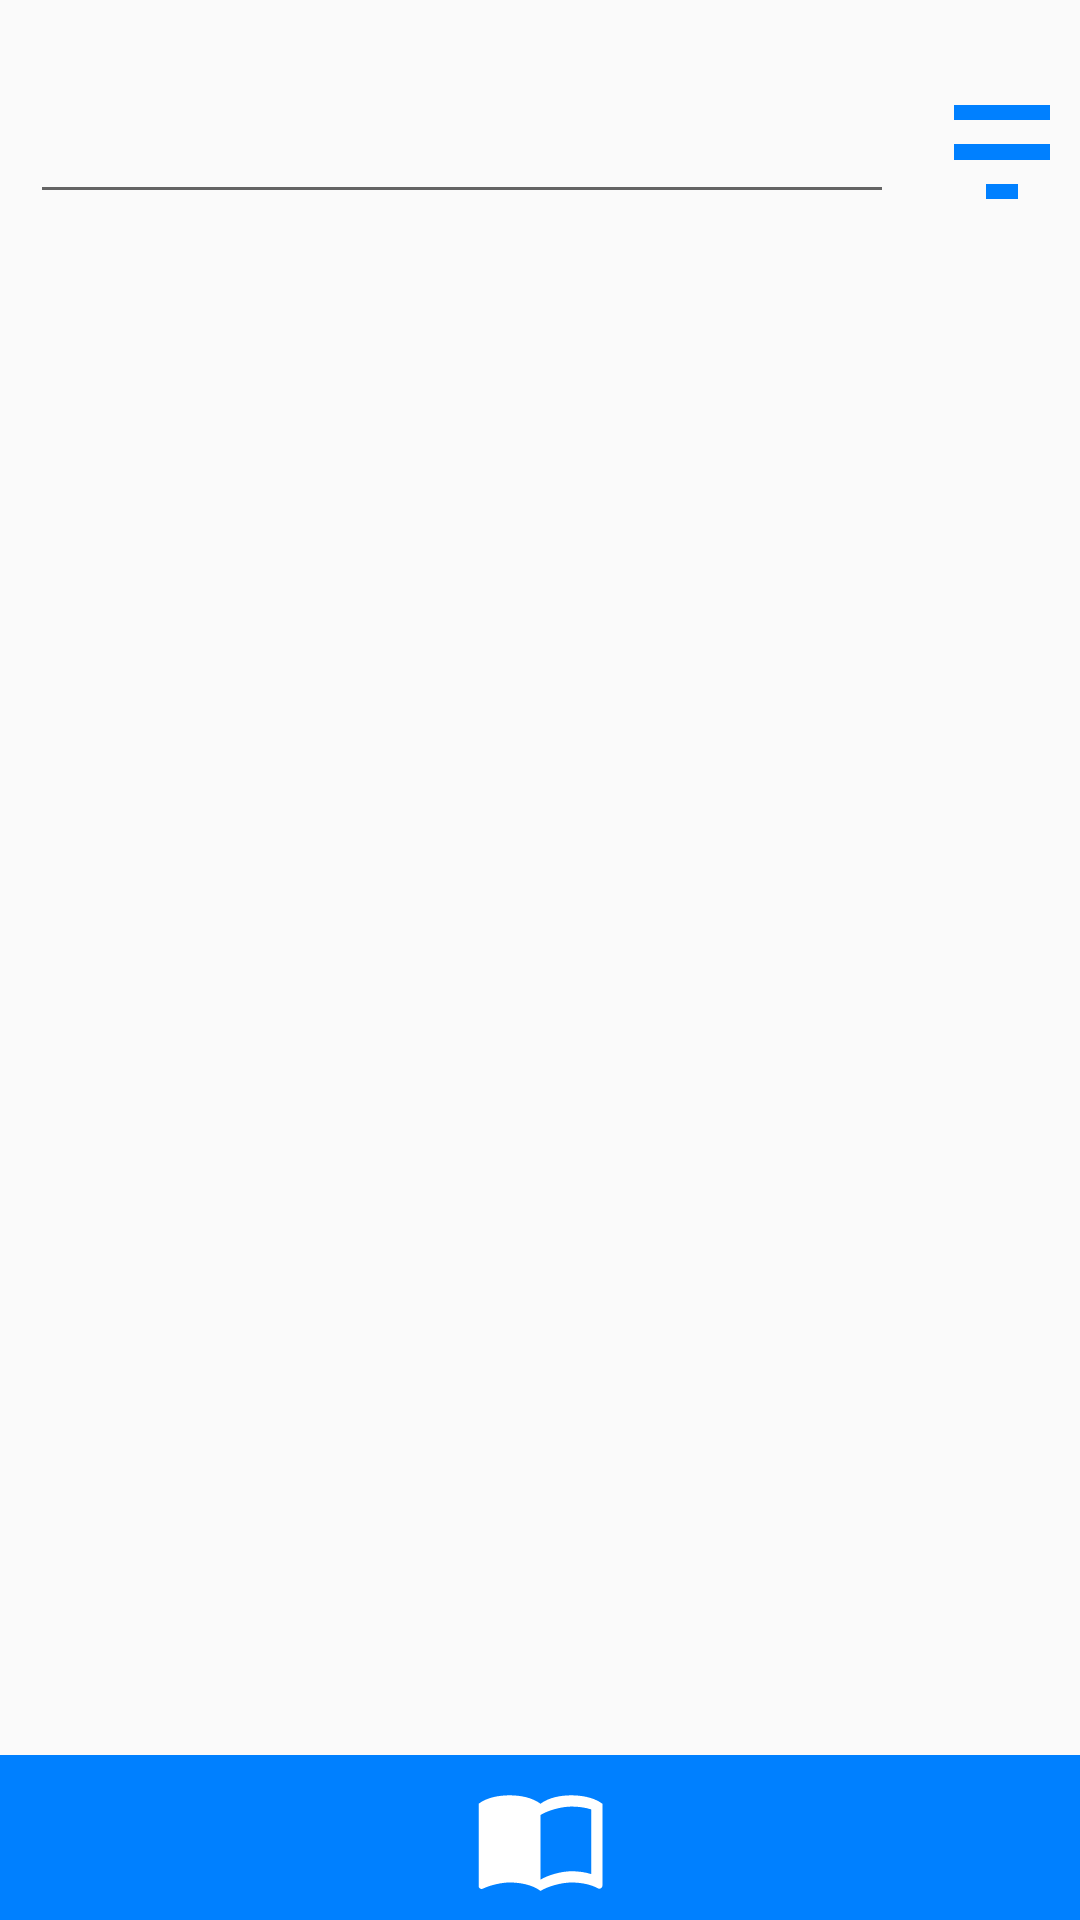

Named icons in this screenshot (1080 x 1920) and their centers, (x,y):
filter list: (1002,152)
openedbook contacts: (540,1843)
